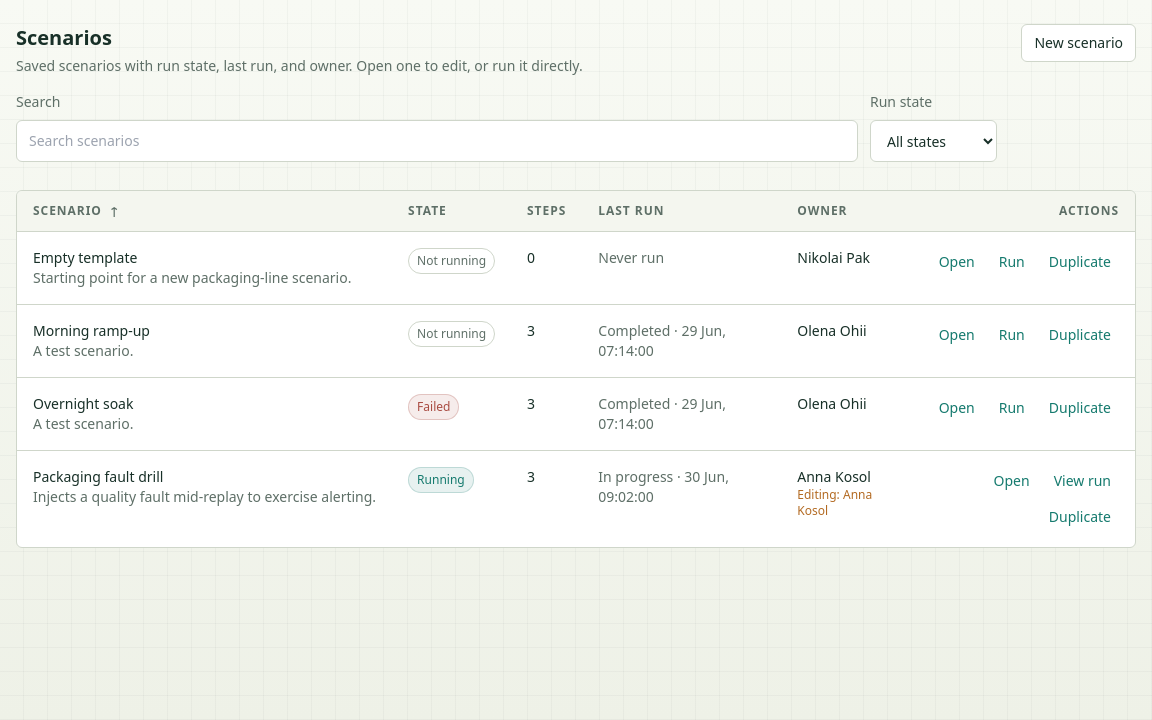
Test: ScenariosPage › shows a no-results state when the filter matches nothing
Type "zzz-no-match" into the search field with placeholder "Search scenarios" at [437, 141], box [16,120,858,162]
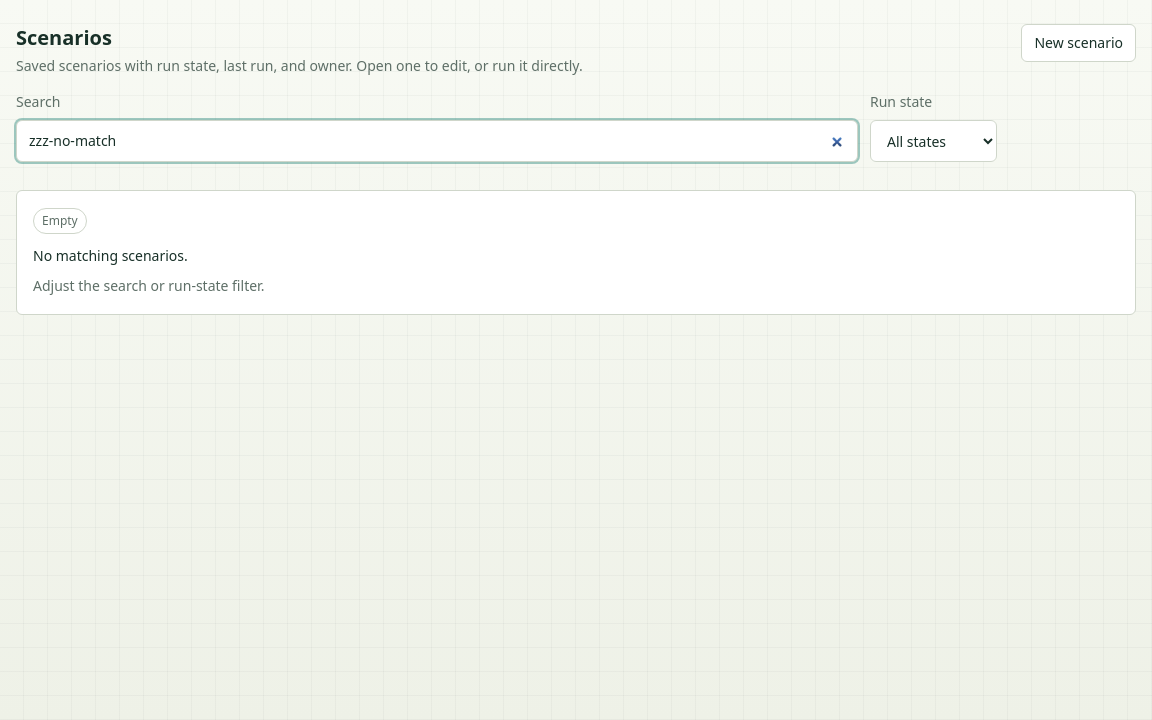
Now the heading "No matching scenarios." is shown, box [33,246,188,265]
